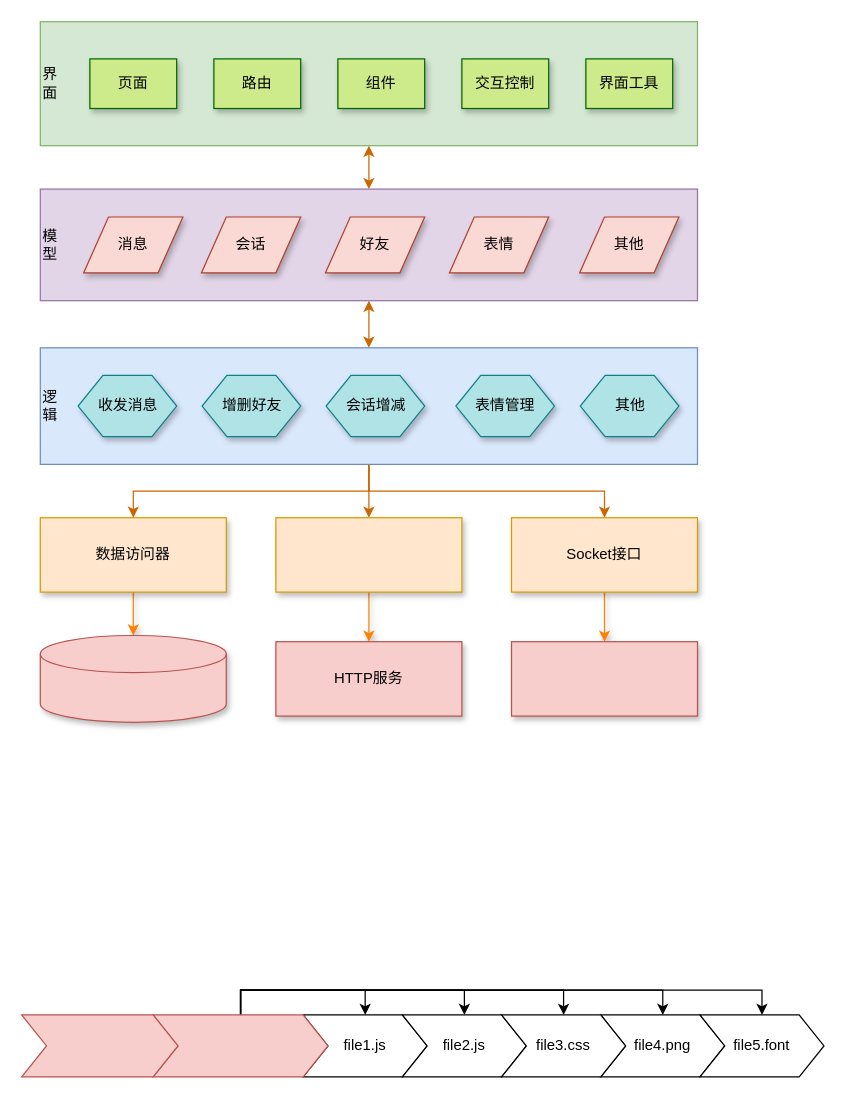
This 846x1099 diagram has some shape labels left out. The centre of each missing label's shape, as x and y in pixels:
header: the point at 240,1045
header size: the point at 99,1045
HTTP接口: the point at 369,556
IndexDb/LocalStorage/File: the point at 134,680
Socket服务: the point at 605,680
